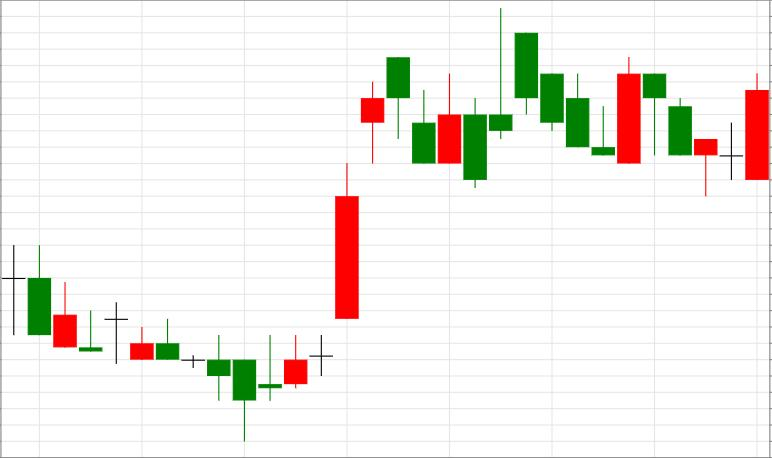hammer_rise: (27, 244, 255, 441)
hanging_man_fall: (234, 57, 410, 441)
